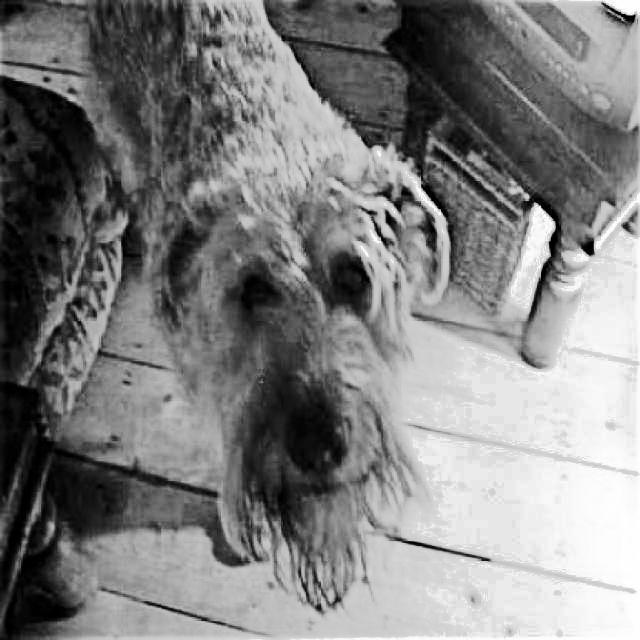Dog: (73, 0, 449, 637)
